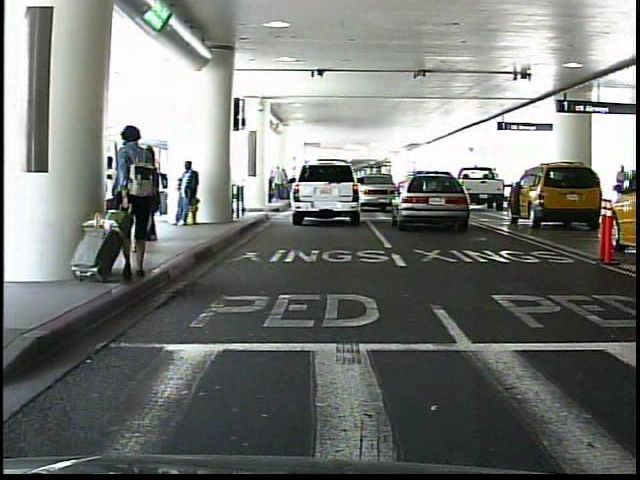person: (114, 124, 165, 285), (138, 145, 166, 239), (175, 158, 202, 230), (614, 163, 629, 214)
